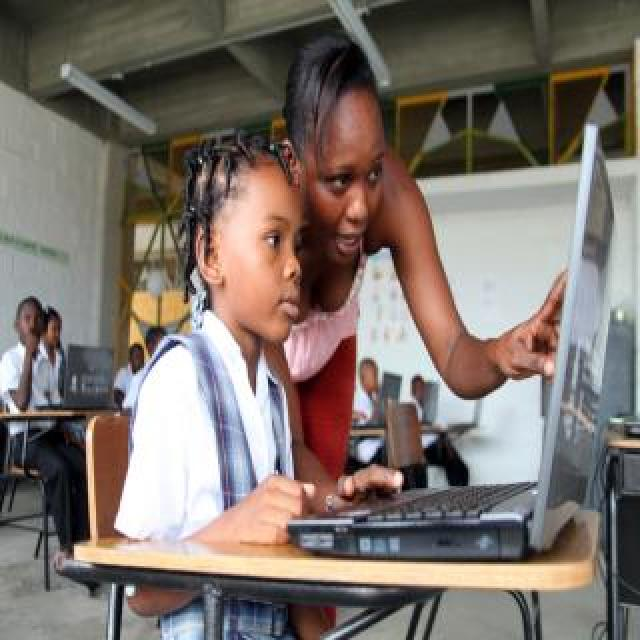laptop_computer: (302, 111, 618, 562), (52, 330, 148, 422)
